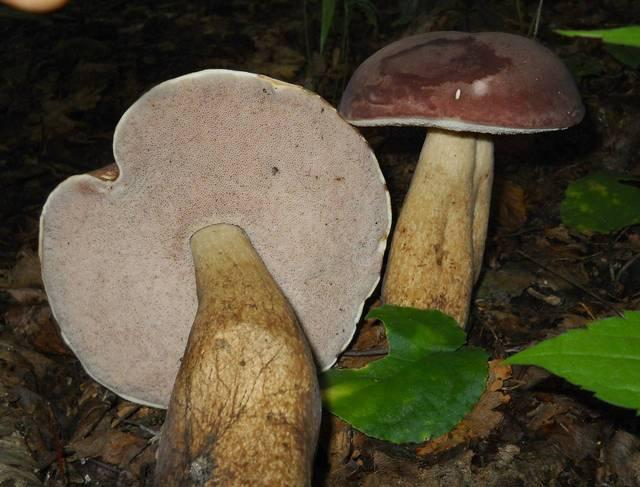poisonous_mushroom: (37, 66, 393, 485), (337, 28, 586, 332)
